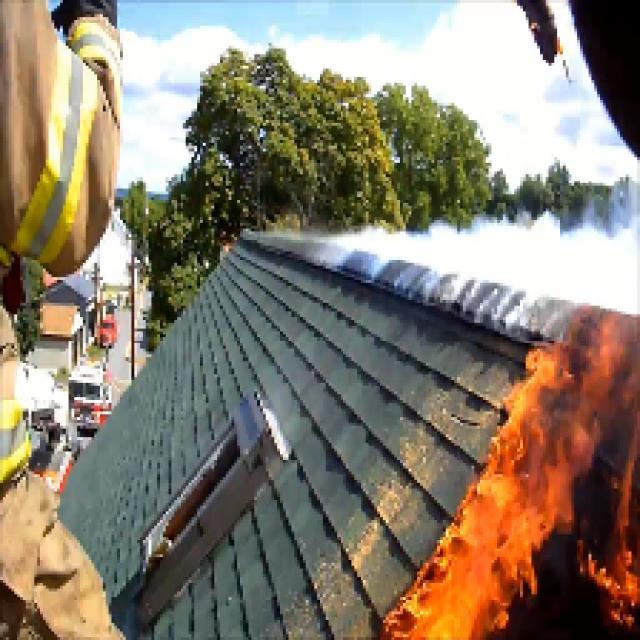Fire: (528, 305, 640, 625), (407, 469, 521, 636)
Smoke: (363, 217, 640, 298)
